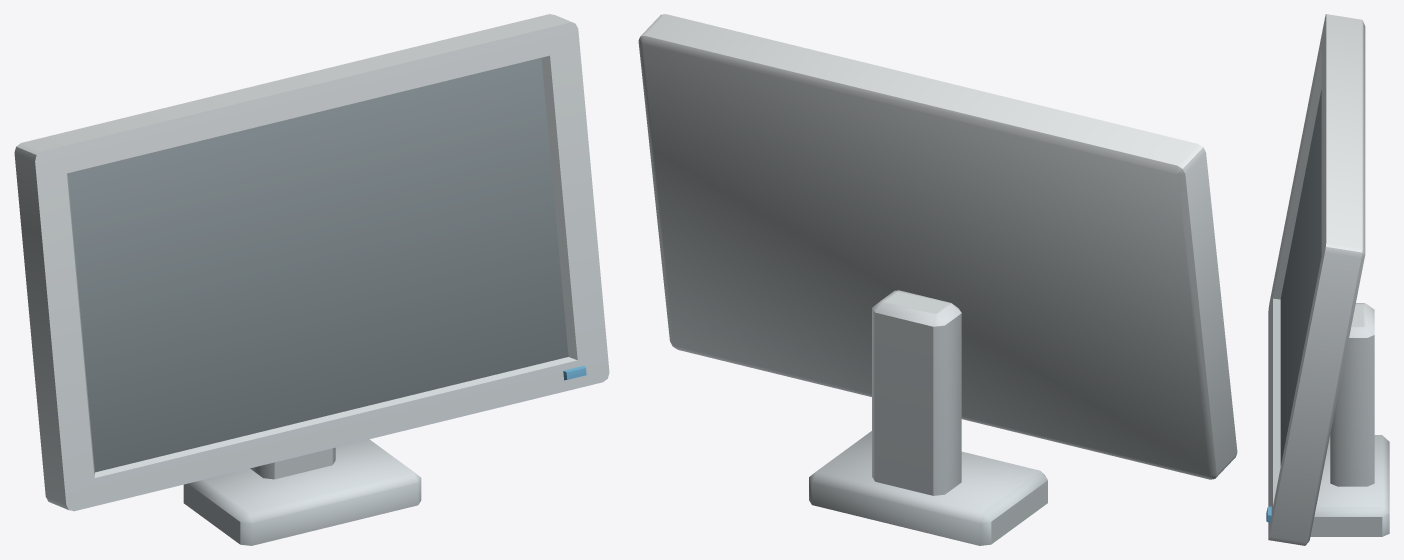
Rendered from monitor.glb.
The picture shows the model from 3 angles, left to right: view 1: azimuth 30°, elevation 25°; view 2: azimuth 150°, elevation 25°; view 3: azimuth 270°, elevation 25°; orthographic projection. The views are drawn at different scales.
Visible parts, largest first — view 1: monitor; view 2: monitor; view 3: monitor.
Boxes of the visible parts, box(x1,y1,x2,y2) form: monitor: box(14, 14, 609, 545); monitor: box(638, 14, 1237, 545); monitor: box(1266, 14, 1389, 545).
Bounding box in the file's own units: 1.5 × 1.1 × 0.3329.
1 material, 1 textured.
